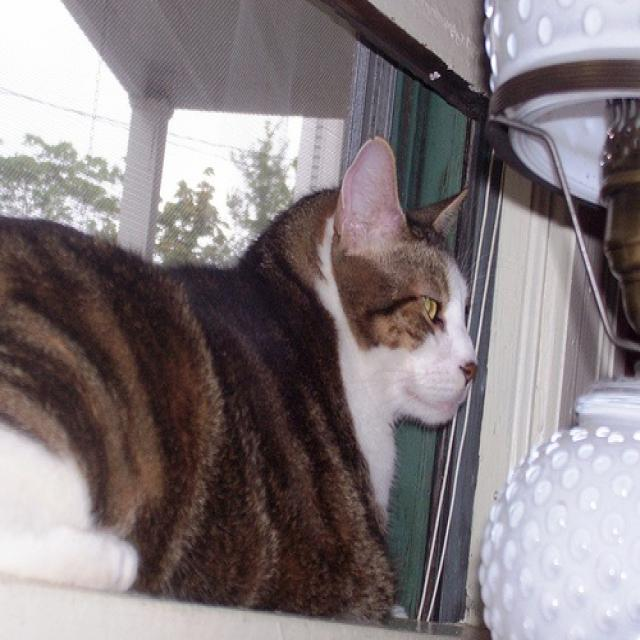cat: (0, 136, 476, 626)
